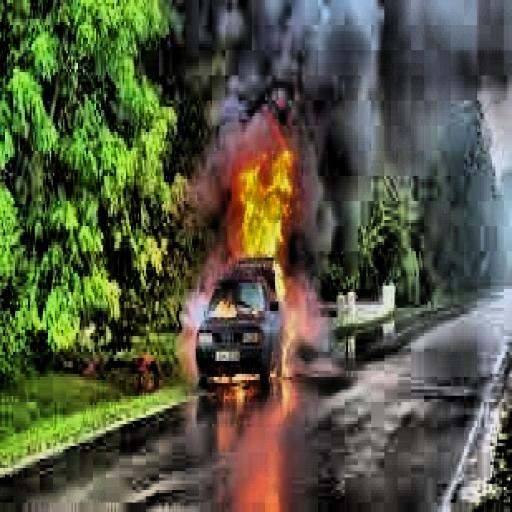fire: (204, 148, 303, 254), (264, 257, 313, 399), (200, 361, 262, 399), (207, 289, 240, 327)
